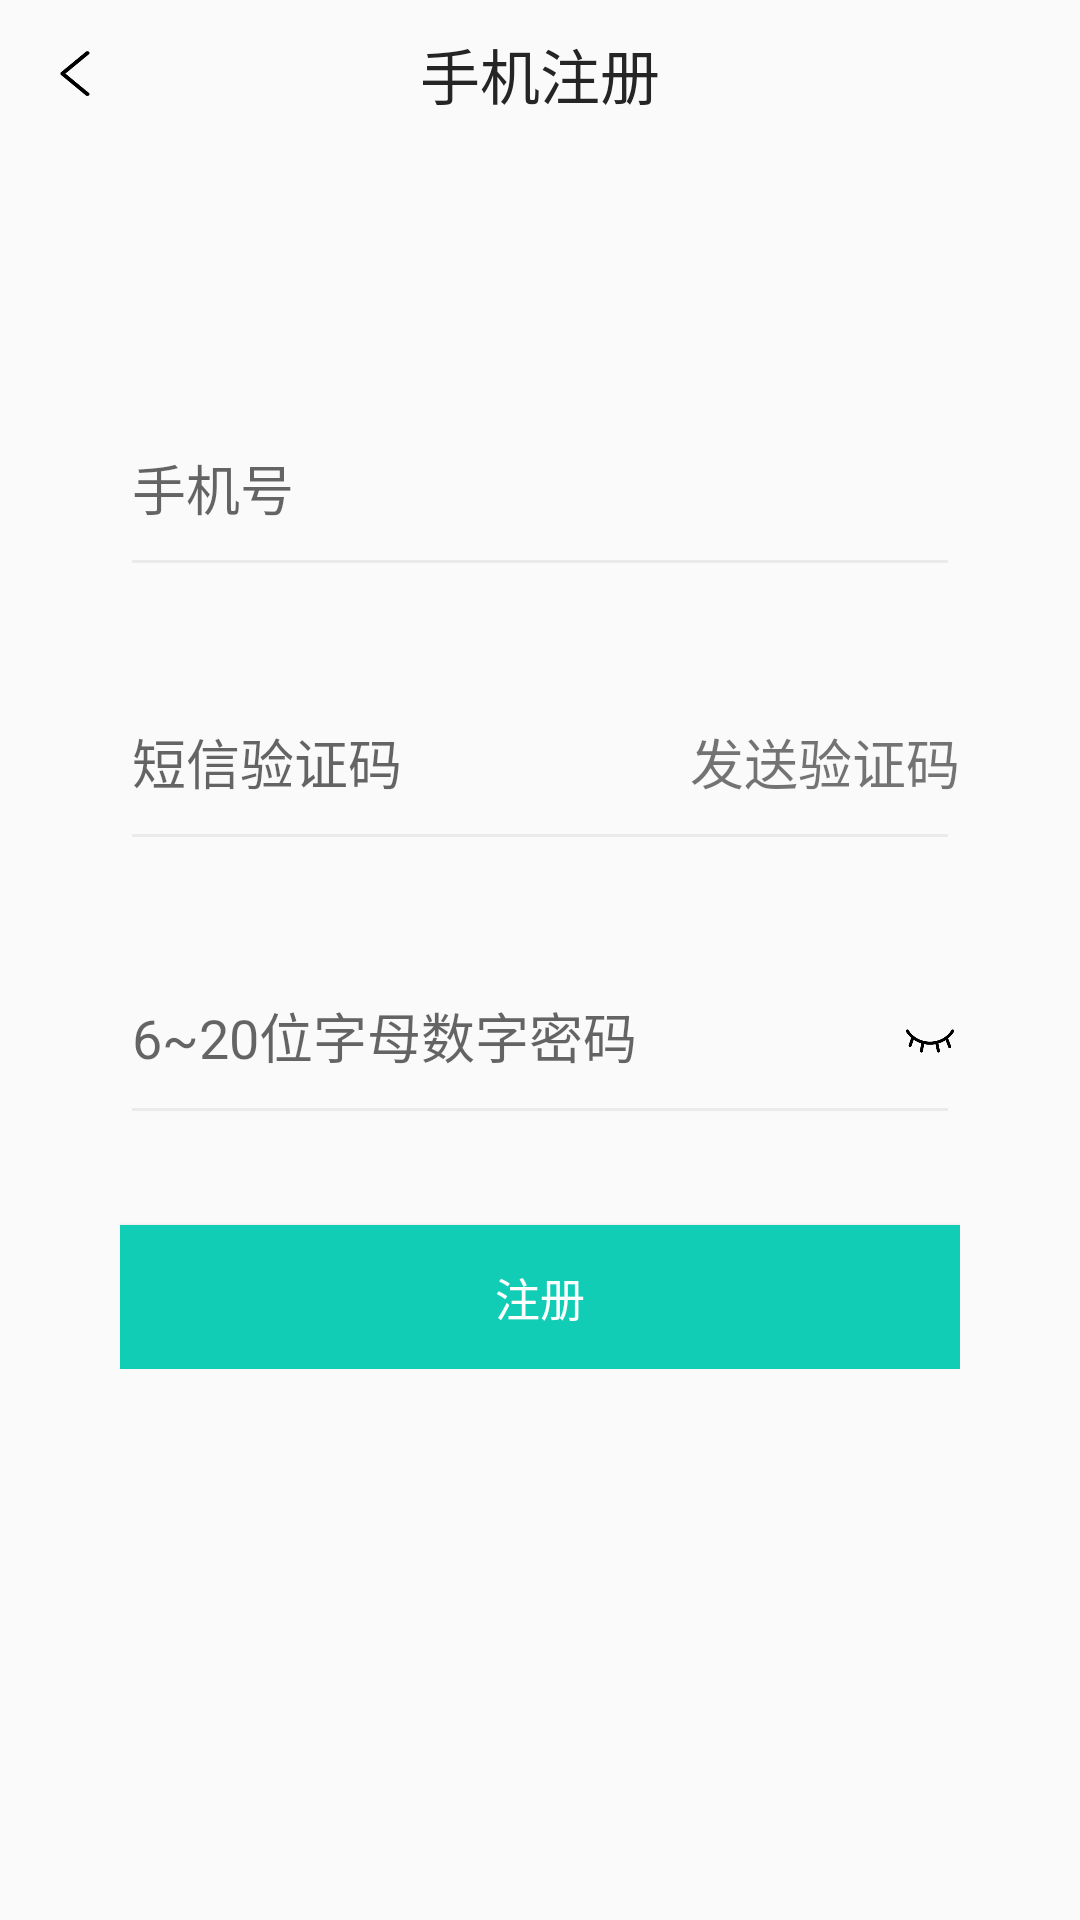

Named icons in this screenshot (1080x1920) and their centers, (x,y):
back: (75,73)
